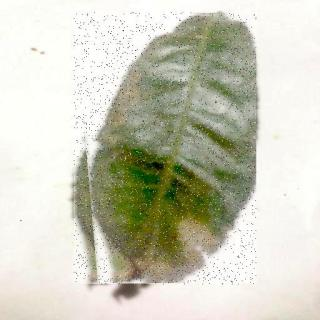Red Leaf Spot: (75, 14, 257, 286)
